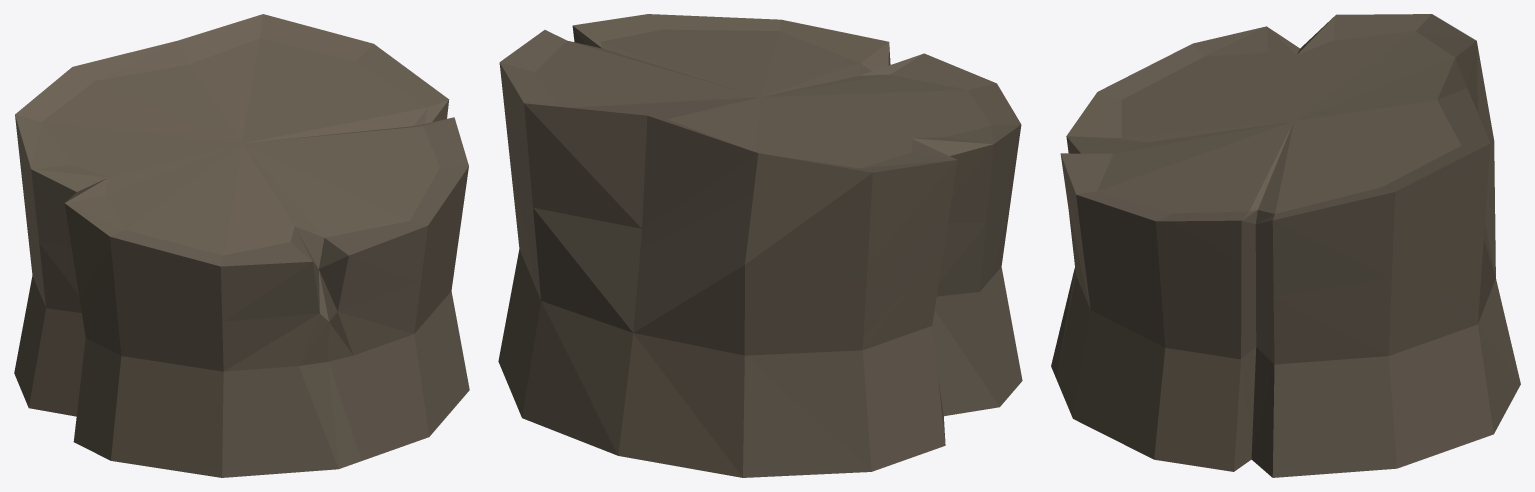
File: stump.glb
3 views of the same model, side by side, from view 1: azimuth 30°, elevation 25°; view 2: azimuth 150°, elevation 25°; view 3: azimuth 270°, elevation 25° (orthographic). The views are drawn at different scales.
Parts seen in each view (by area): view 1: Stump; view 2: Stump; view 3: Stump.
Part boxes in pixels (x1,y1,x2,y2): Stump: (14,14,469,477); Stump: (498,14,1022,477); Stump: (1051,14,1520,477).
Size of the model in its own units: 0.6245 by 0.4263 by 0.6135.
1 material, 1 textured.
